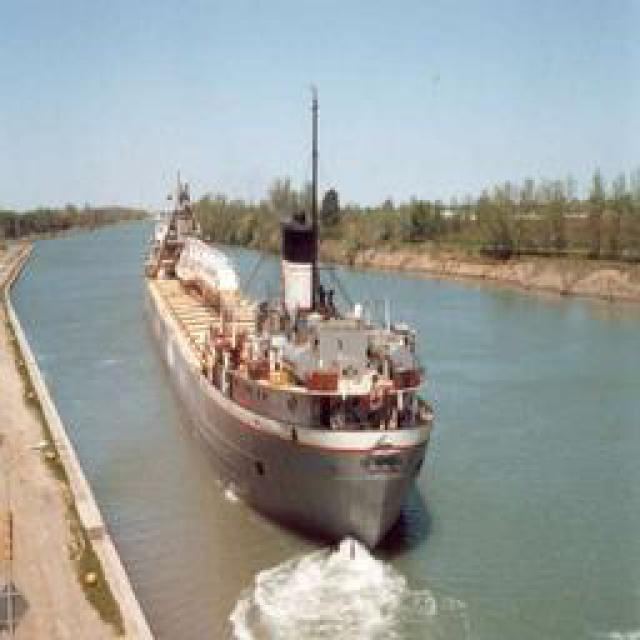Ship: (146, 228, 434, 556)
